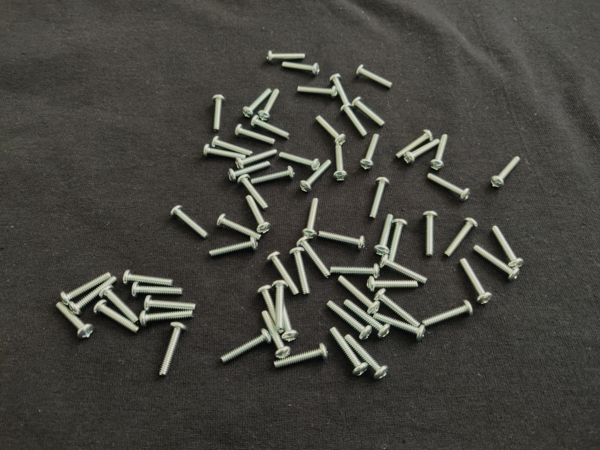longscrew: (344, 333, 390, 382), (329, 327, 370, 377), (69, 276, 118, 317), (219, 328, 273, 365), (325, 300, 373, 341), (344, 299, 391, 340), (373, 288, 421, 328), (474, 244, 521, 283), (60, 272, 112, 306), (93, 299, 140, 336), (337, 276, 381, 315), (158, 321, 188, 377), (458, 258, 493, 305), (99, 285, 140, 325), (378, 253, 429, 285), (374, 312, 427, 342), (273, 342, 329, 370), (54, 302, 95, 340), (296, 236, 332, 279), (267, 251, 301, 296), (261, 311, 292, 360), (492, 226, 525, 270), (443, 218, 479, 258), (422, 300, 475, 327), (257, 284, 285, 334), (170, 205, 210, 240), (428, 173, 471, 203), (237, 173, 270, 211), (395, 129, 435, 160), (217, 213, 261, 241), (351, 96, 387, 129), (299, 159, 332, 193), (245, 195, 273, 235), (209, 236, 259, 258), (289, 247, 311, 296), (490, 156, 522, 189), (318, 230, 366, 252), (250, 115, 292, 140), (340, 103, 369, 139), (387, 218, 409, 265), (211, 135, 254, 159), (139, 310, 195, 328), (357, 64, 395, 90), (404, 138, 442, 164), (368, 177, 391, 219), (242, 87, 273, 118), (316, 115, 347, 146), (366, 276, 419, 294), (228, 161, 271, 183), (235, 123, 276, 146), (278, 299, 299, 343), (131, 282, 185, 299), (235, 148, 278, 169), (374, 214, 395, 257), (144, 295, 197, 312), (250, 166, 296, 185), (330, 263, 381, 280), (273, 280, 290, 331), (278, 152, 321, 172), (421, 211, 439, 258), (122, 270, 174, 286), (301, 198, 320, 240), (329, 73, 352, 106), (360, 134, 381, 170), (258, 88, 280, 121), (203, 144, 247, 160), (430, 134, 449, 171), (211, 93, 226, 133), (282, 61, 321, 76), (297, 85, 338, 99), (334, 145, 349, 182), (266, 50, 306, 63)
